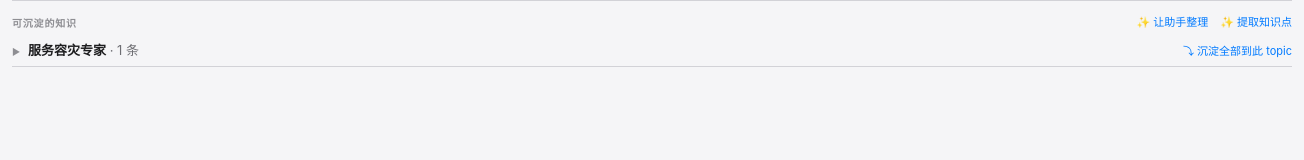
Test case: KnowledgePointsSection › collapses the topic points by default and reveals them on click
The width and height of the screenshot is (1304, 160).
Expected: the text "t-1" is not shown
Click the button "▶ 服务容灾专家 · 1 条" at point(76, 50), box [12,41,139,60]
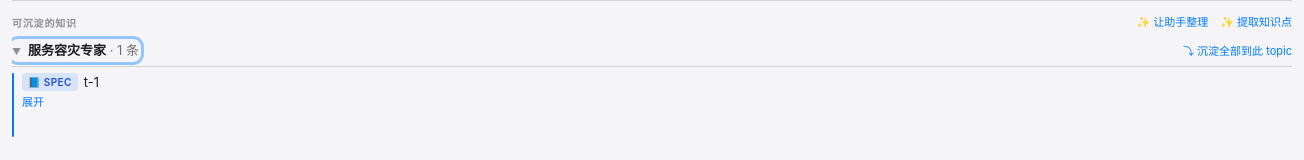
Expected: the button "▼ 服务容灾专家 · 1 条" is expanded, [12,41,139,60]
Expected: the text "t-1" is shown, [84,74,99,90]
